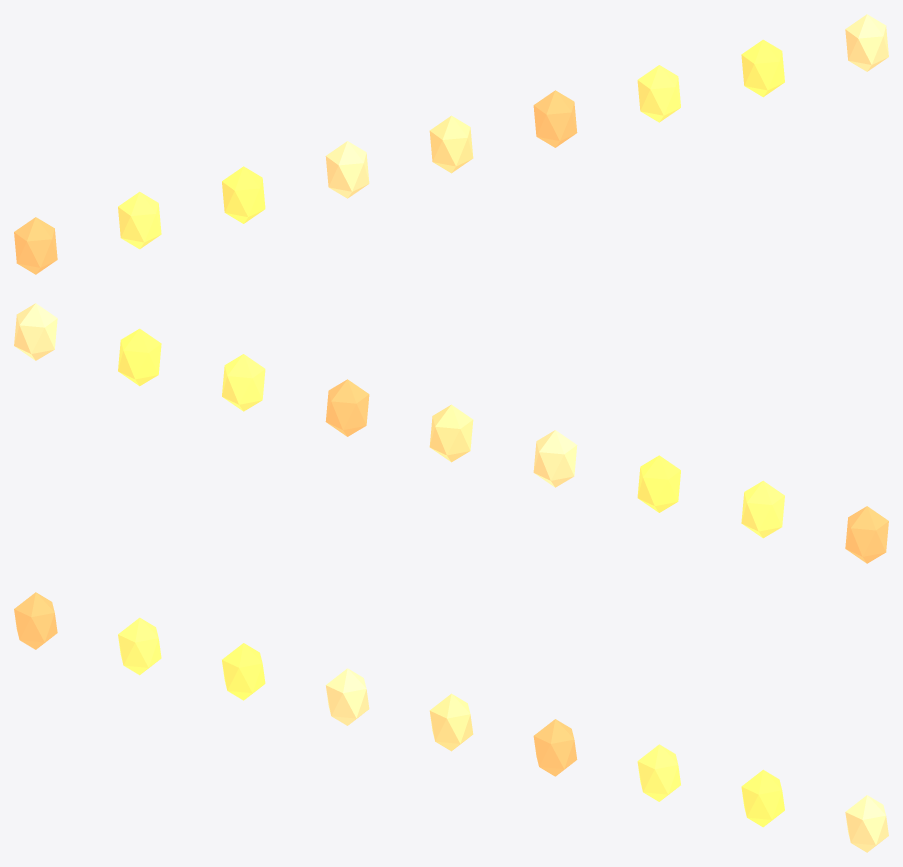
Rendered from Stall_Green_Lights.glb.
The picture shows the model from 3 angles, top to bottom: view 1: azimuth 30°, elevation 25°; view 2: azimuth 150°, elevation 25°; view 3: azimuth 330°, elevation 25°; orthographic projection.
Parts seen in each view (by area): view 1: Stall_Green_Lights; view 2: Stall_Green_Lights; view 3: Stall_Green_Lights.
Boxes of the visible parts, bbox=[...] form: Stall_Green_Lights: bbox=[14, 14, 888, 274]; Stall_Green_Lights: bbox=[14, 303, 888, 563]; Stall_Green_Lights: bbox=[14, 592, 888, 852].
Size of the model in its own units: 8.99 by 0.572 by 0.3743.
